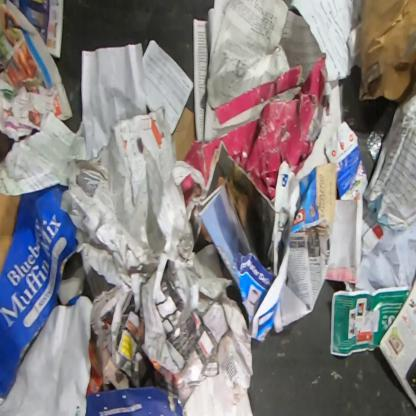cardboard: (181, 52, 328, 211), (0, 183, 85, 399), (85, 386, 183, 416), (172, 106, 196, 161)
soft_plastic: (367, 100, 398, 160)
